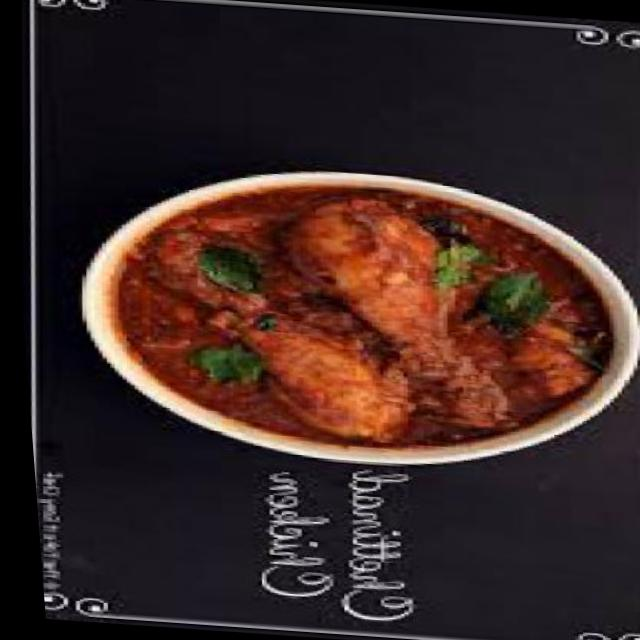CHICKEN CURRY: (117, 186, 606, 448)
